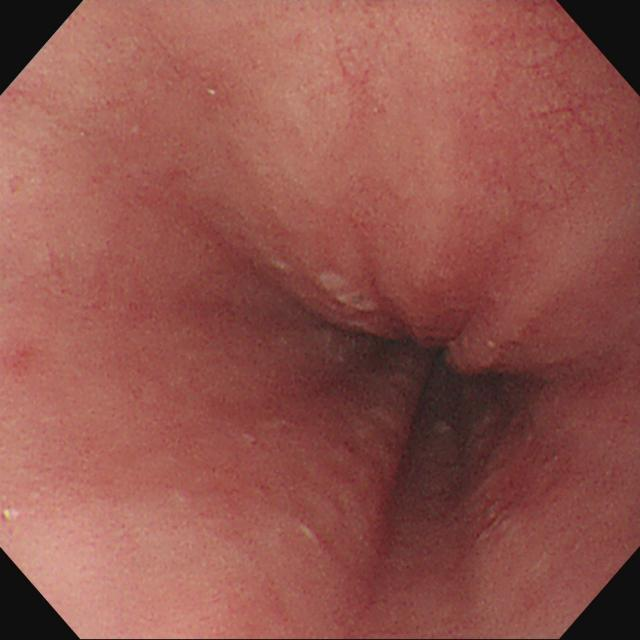E: (345, 307, 486, 434)
